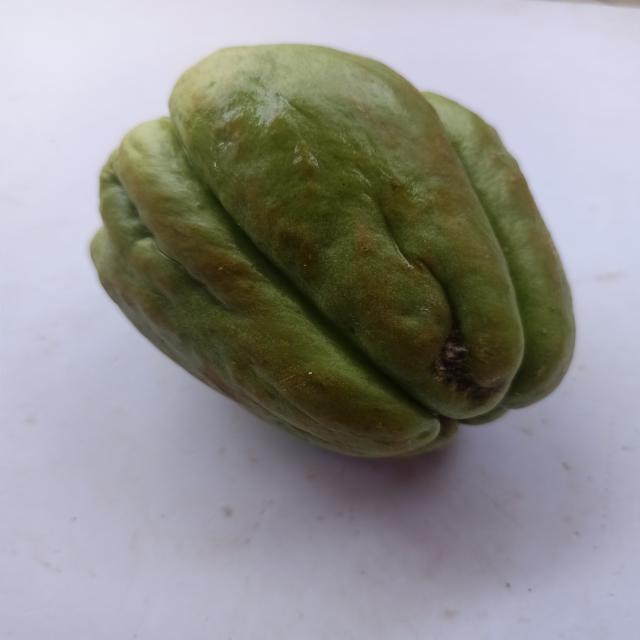Chayote: (78, 24, 592, 488)
